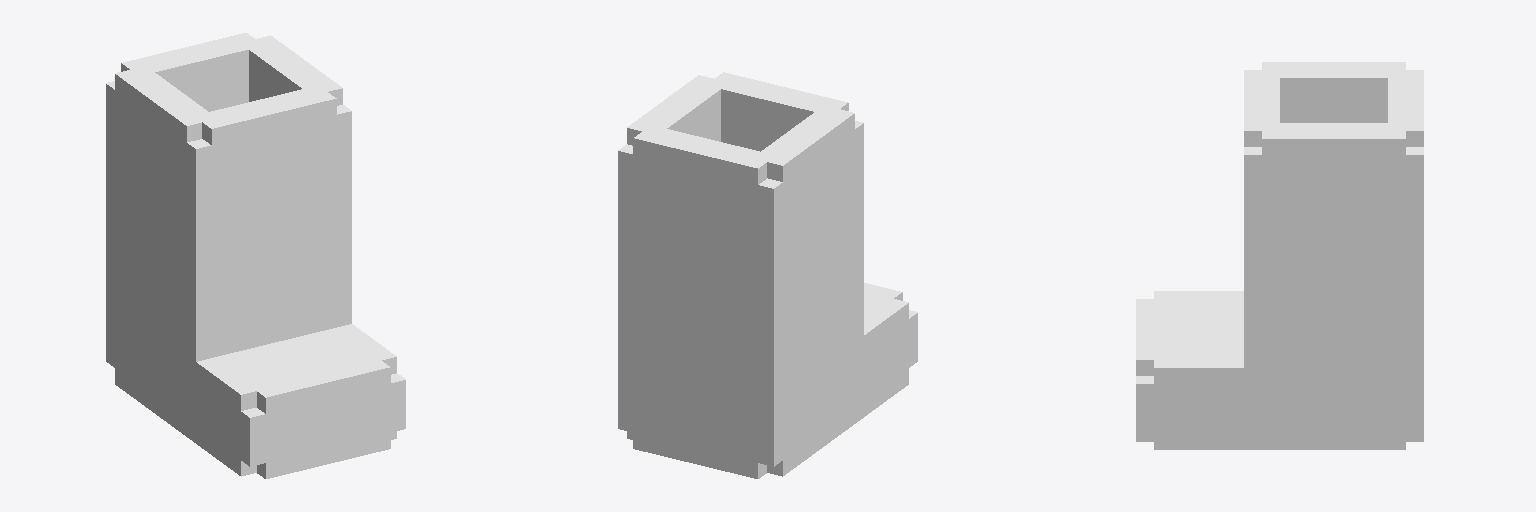
The model's file is humanoid-62.obj.
3 renders of one model, left to right at view 1: azimuth 30°, elevation 25°; view 2: azimuth 150°, elevation 25°; view 3: azimuth 270°, elevation 25°, orthographic.
Visible parts, largest first — view 1: humanoid-62; view 2: humanoid-62; view 3: humanoid-62.
Boxes of the visible parts, x1,y1,x2,y2 form: humanoid-62: [106, 33, 405, 478]; humanoid-62: [618, 72, 917, 478]; humanoid-62: [1136, 62, 1423, 449].
Bounding box in the file's own units: 10 × 19 × 16.